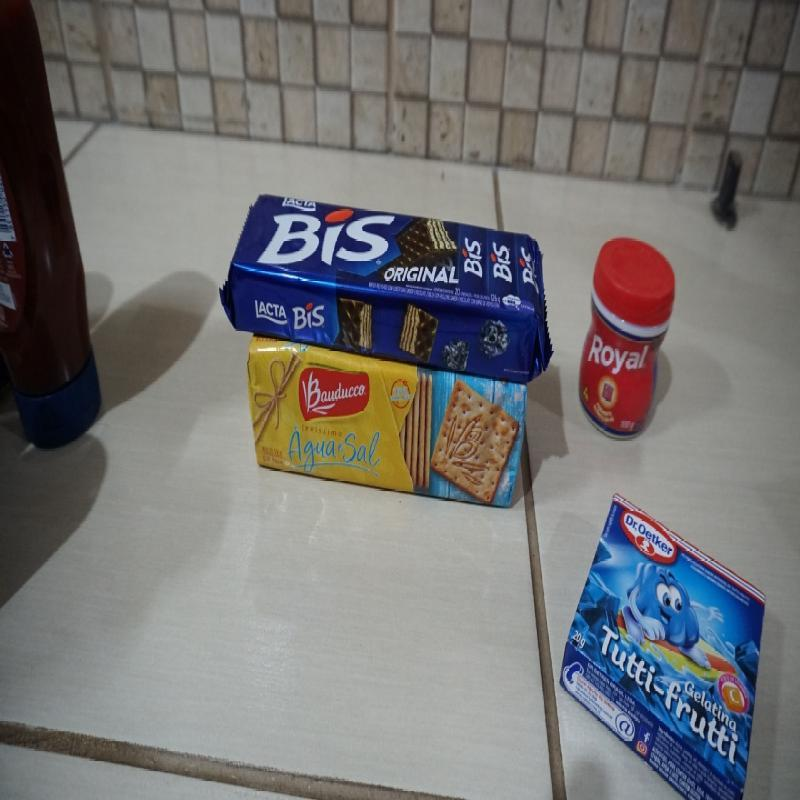Cracker: (247, 332, 528, 513)
Gelatine: (560, 492, 768, 800)
Ketchup: (0, 0, 104, 453)
Yeast: (576, 235, 677, 442)
